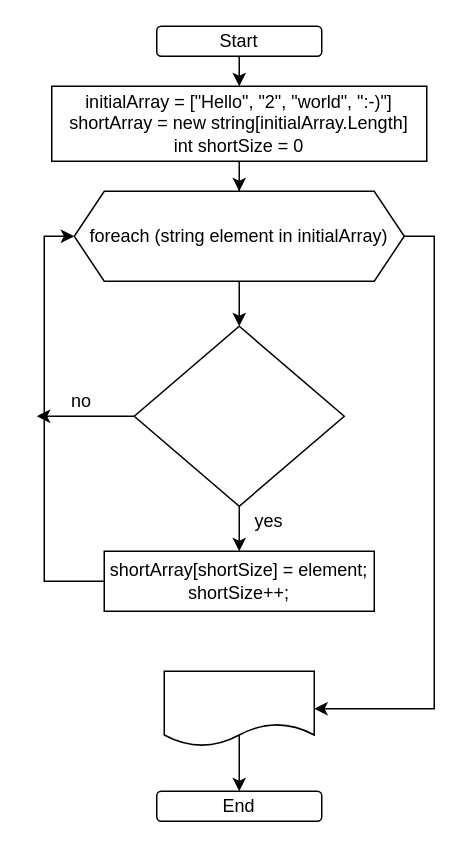
Some shapes in this 473 by 848 pixel diagram are drawn without their labels. Here are the shapes that lost their labels. From the top down, the box of each, then its label:
(133, 325, 344, 506): element.Length <= 3
(163, 670, 314, 746): shortArray
